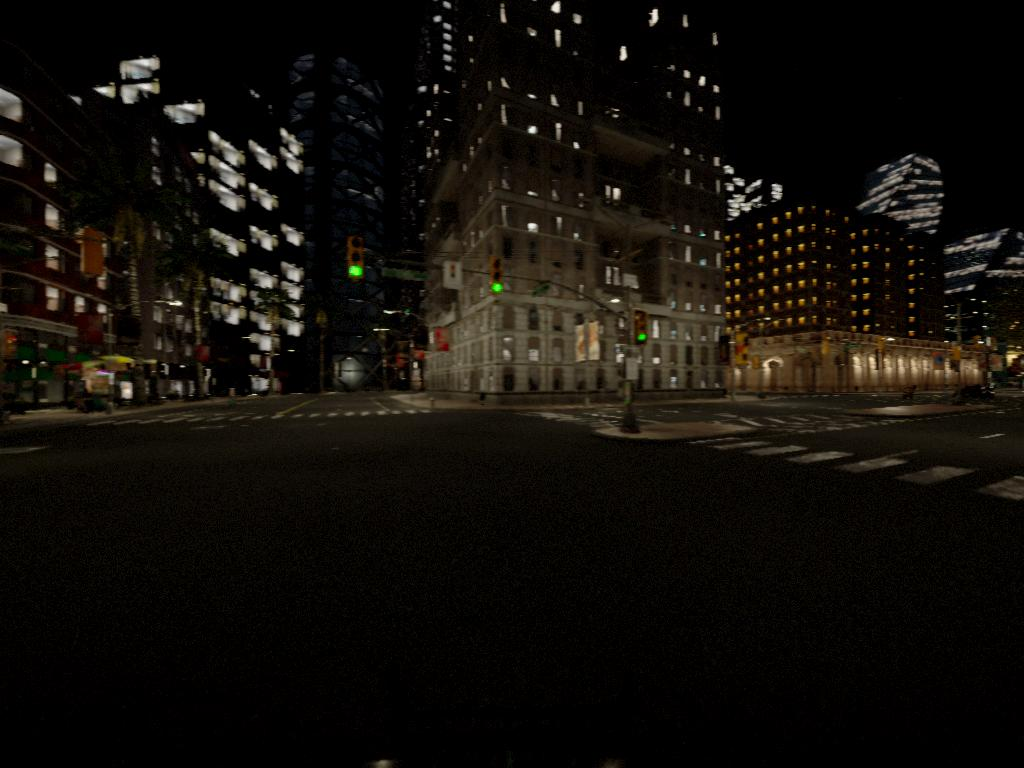traffic_light: (82, 230, 104, 277), (346, 236, 365, 281), (490, 258, 505, 295), (636, 310, 648, 346)
